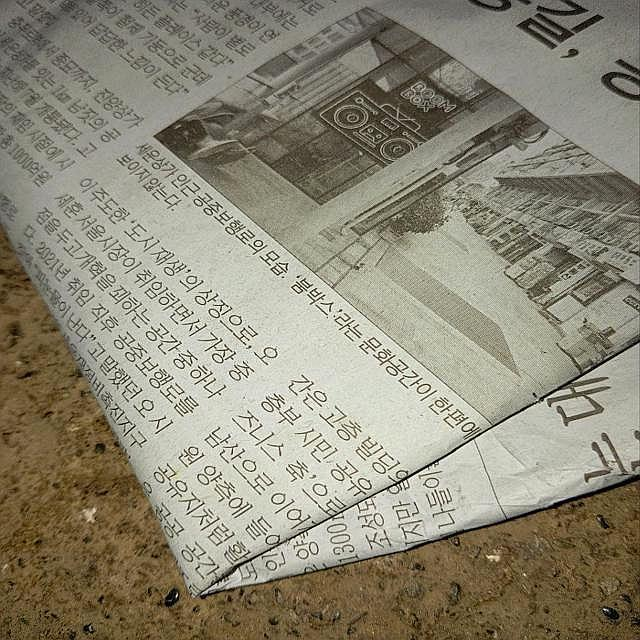Biodegradable: (1, 1, 640, 589)
